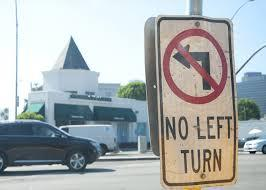no_left_turn: (162, 28, 227, 103)
